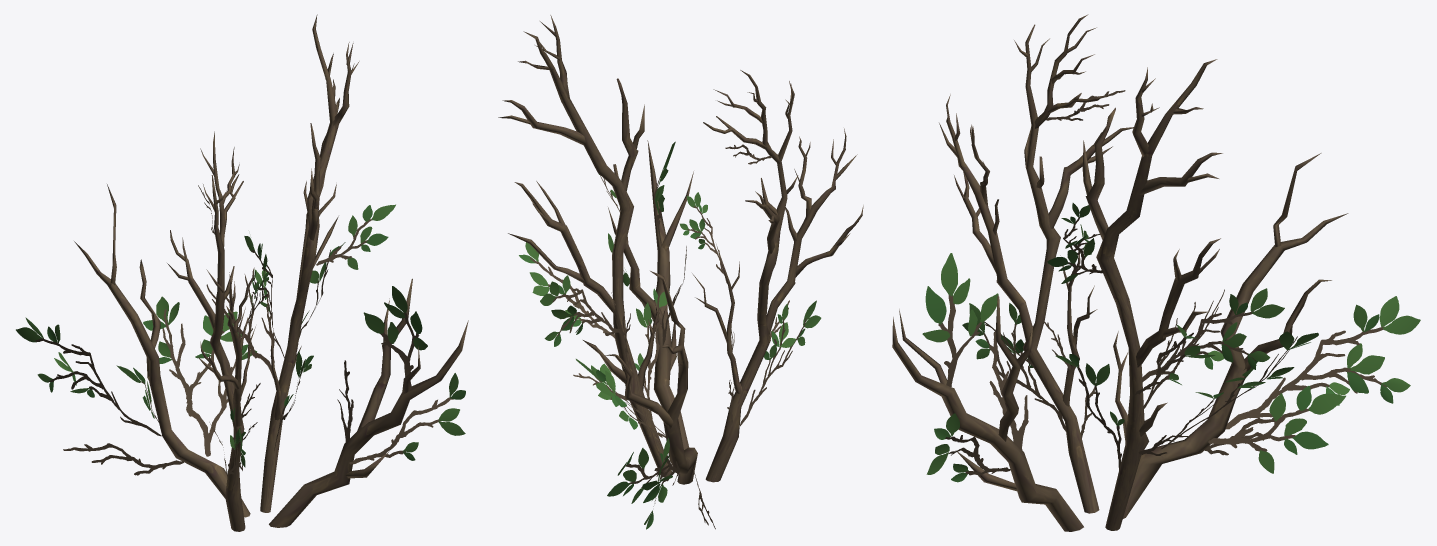
File: SM_FW01_Bush_Dead_02.fbx
The picture shows the model from 3 angles, left to right: view 1: azimuth 30°, elevation 25°; view 2: azimuth 150°, elevation 25°; view 3: azimuth 270°, elevation 25°; orthographic projection. The views are drawn at different scales.
Parts seen in each view (by area): view 1: SM_FW01_Bush_Dead_02_LOD0; view 2: SM_FW01_Bush_Dead_02_LOD0; view 3: SM_FW01_Bush_Dead_02_LOD0.
Boxes of the visible parts, left/top/right/bottom form: SM_FW01_Bush_Dead_02_LOD0: left=16, top=14, right=468, bottom=531; SM_FW01_Bush_Dead_02_LOD0: left=498, top=15, right=863, bottom=529; SM_FW01_Bush_Dead_02_LOD0: left=892, top=14, right=1420, bottom=531.
Size of what is drawn, in the model's own units: 1.54 by 2.47 by 2.25.
